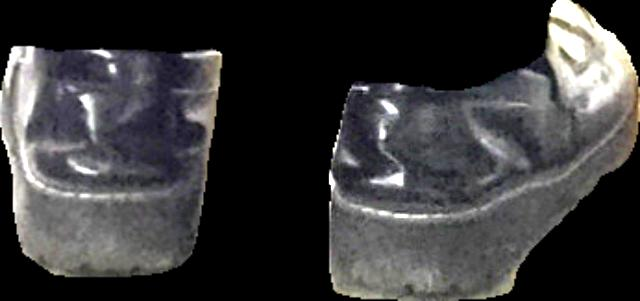blackshoes: (330, 0, 639, 300)
